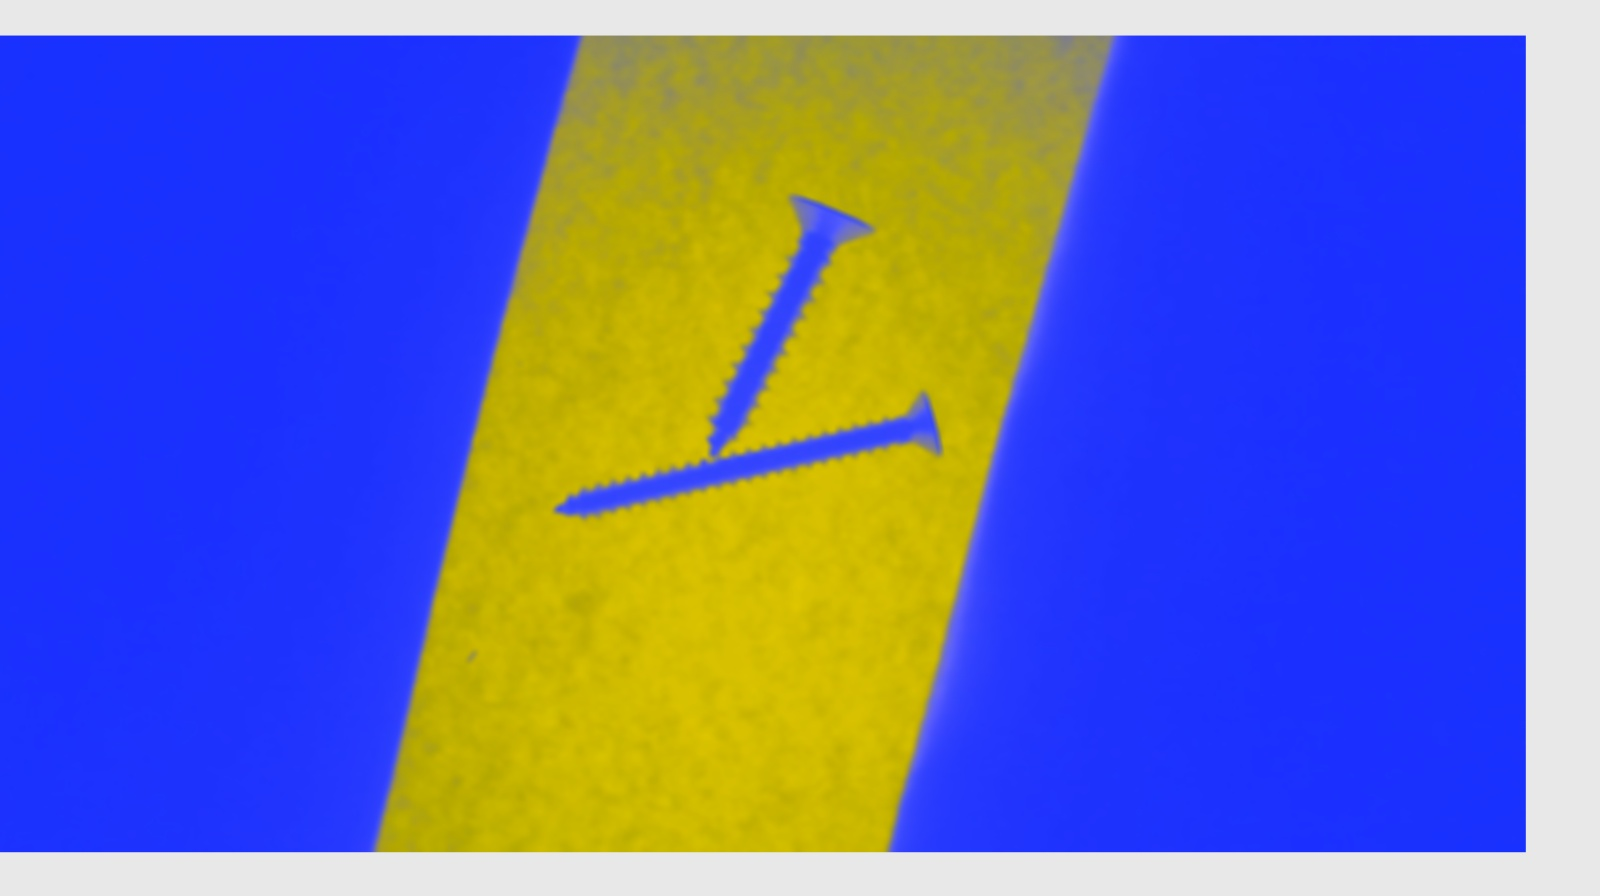S001: (701, 189, 884, 460)
S002: (551, 386, 944, 523)
